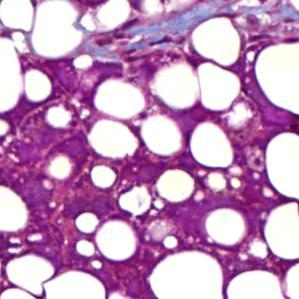steatosis: (190, 119, 238, 171), (90, 80, 144, 118), (90, 121, 139, 161), (95, 219, 140, 259), (205, 208, 248, 246), (156, 168, 196, 204), (21, 67, 53, 102)
